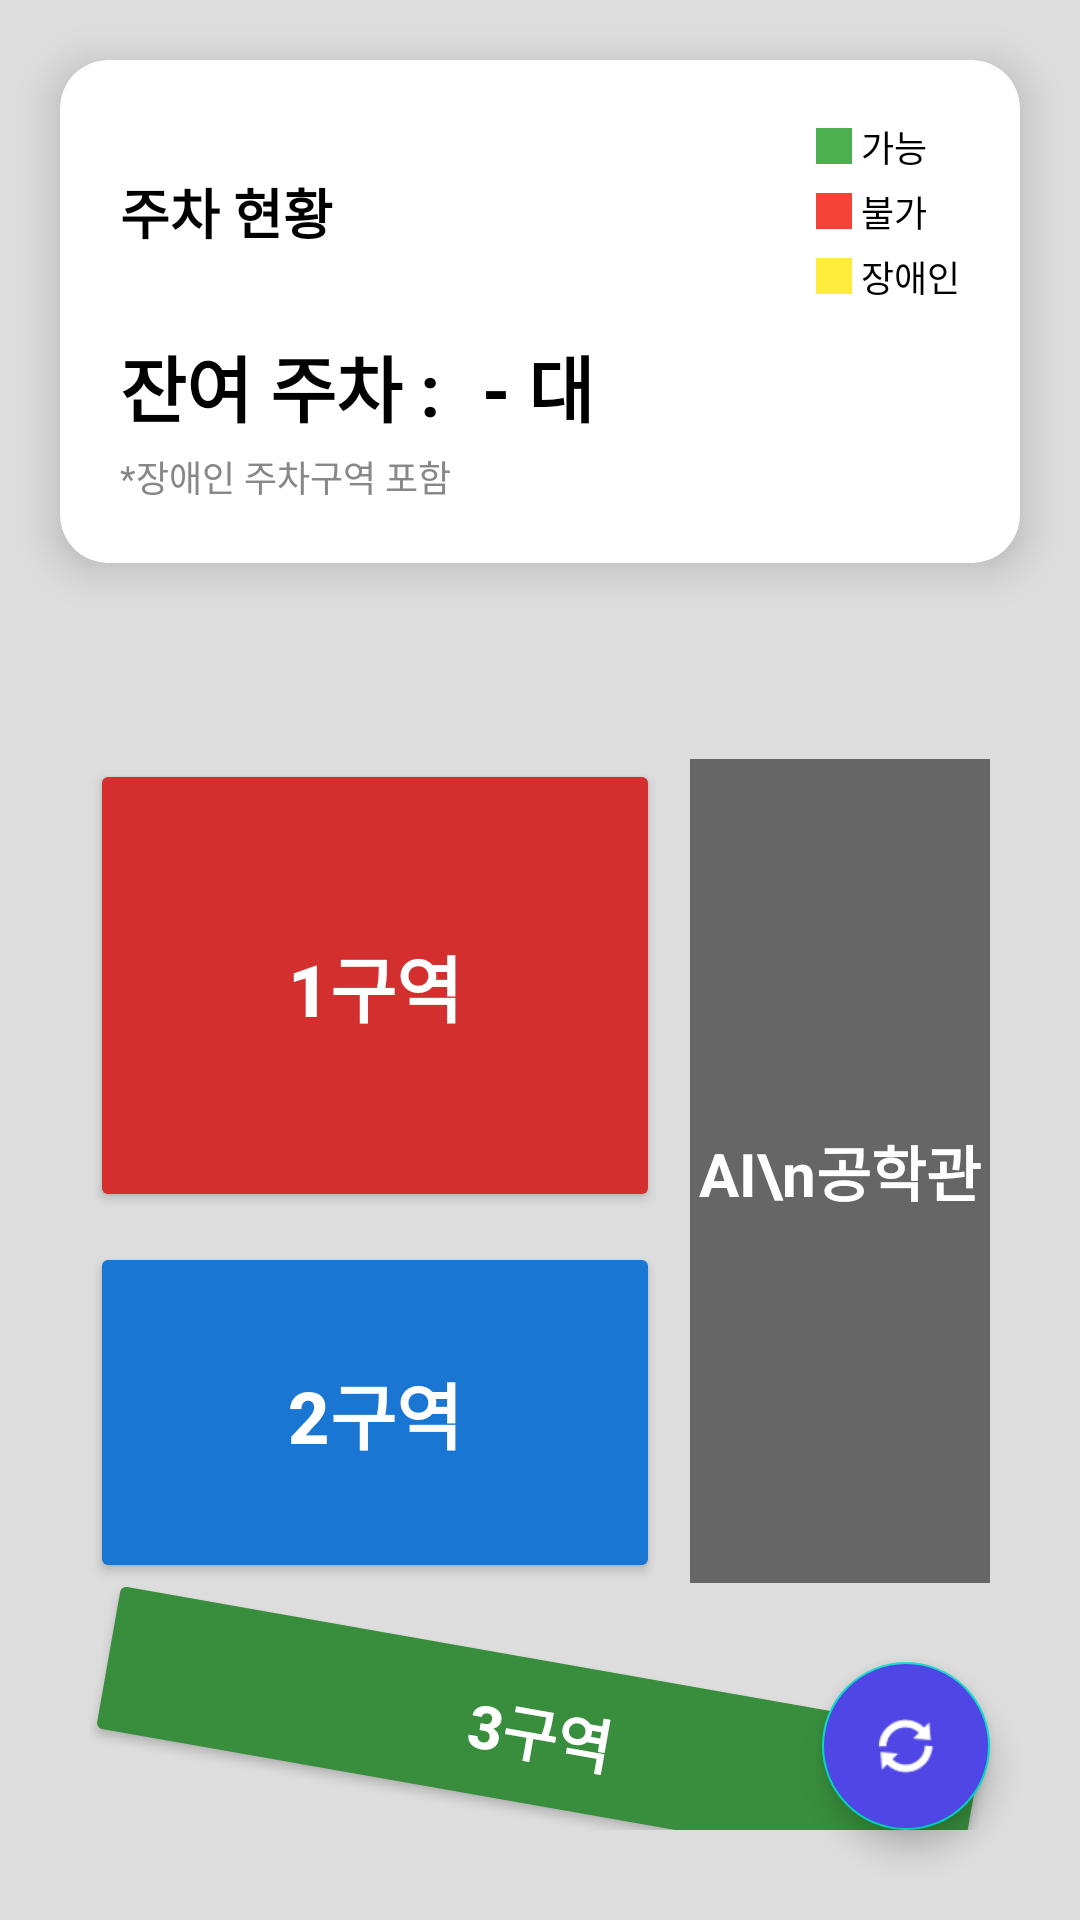

Where icons sit on this 1080x1920 app screen, as (x1, y1, x2, y2):
popup sync: (822, 1662, 990, 1830)
